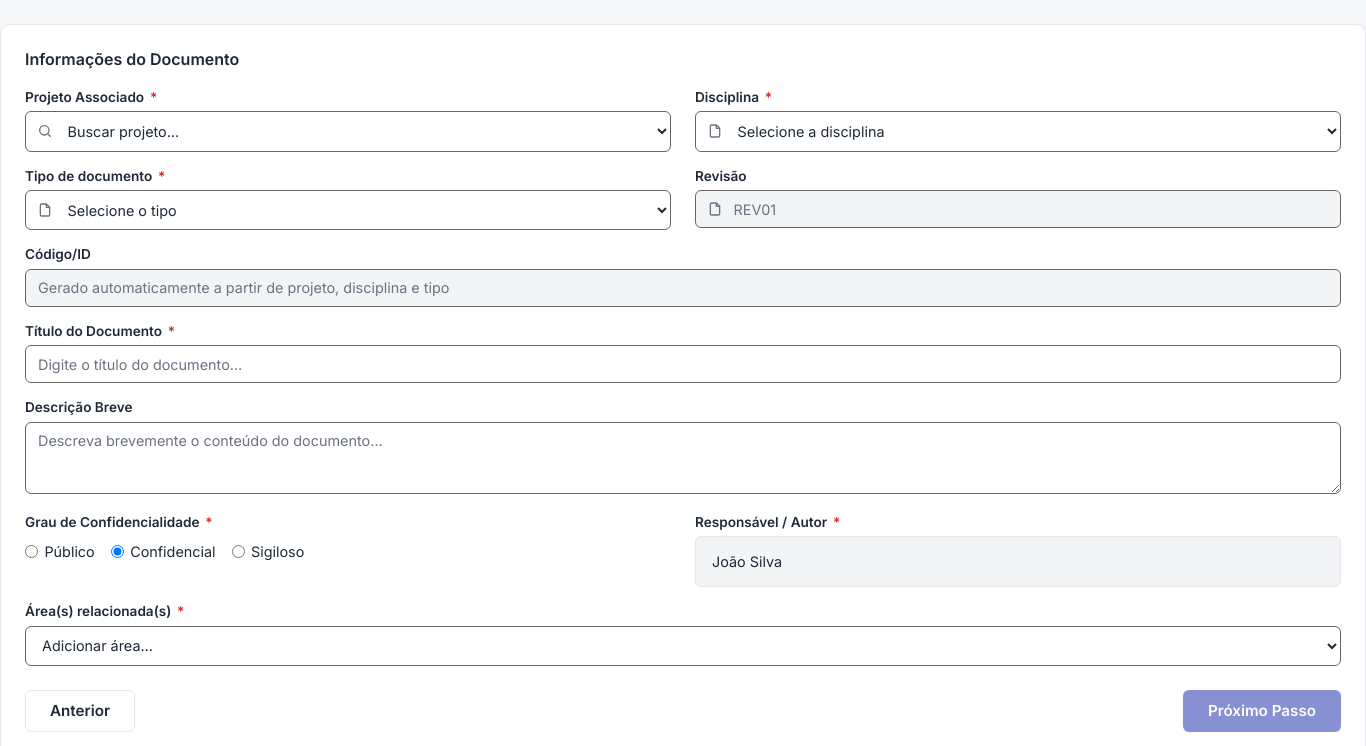
Test: MetadataStep › should show the author error under the author block when it is cleared
This screenshot has width=1366, height=746.
Clear the field with id "author" at (1018, 562), box [712, 547, 1324, 577]
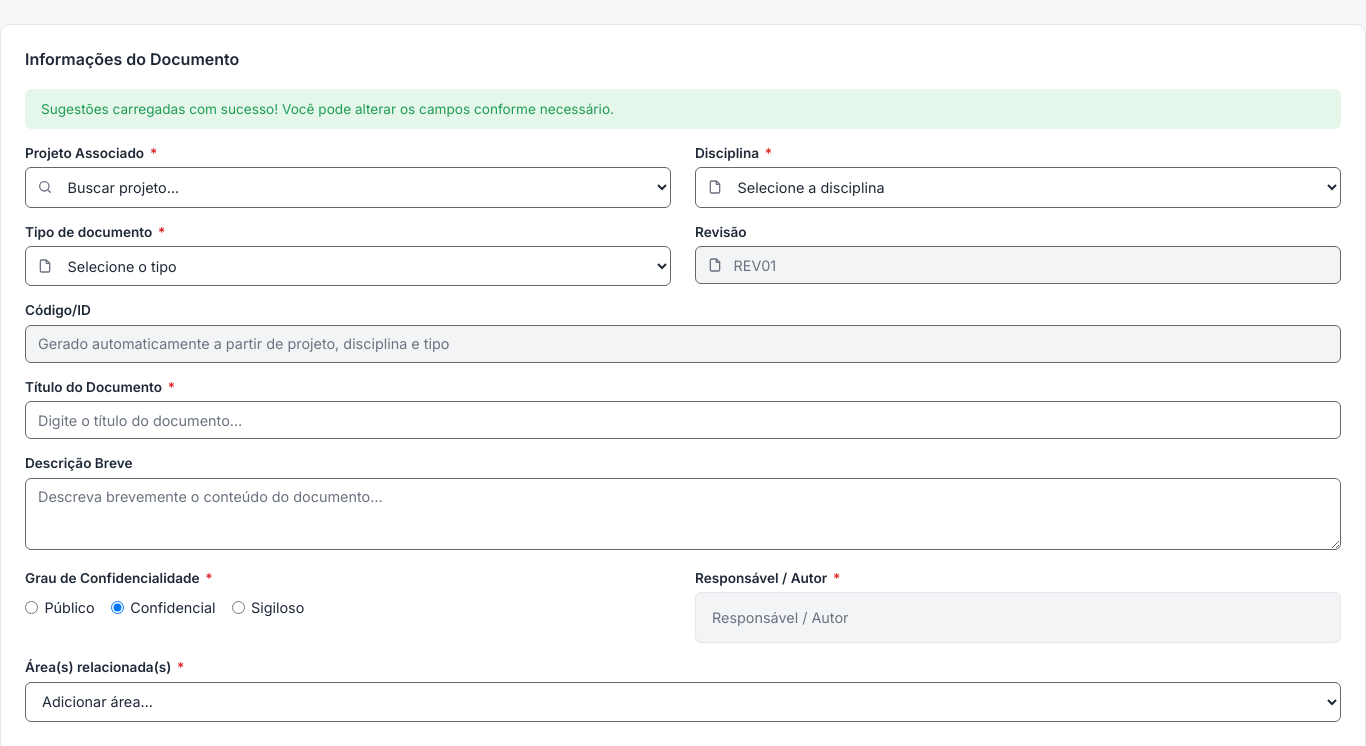
Leave the field with id "author", box [712, 603, 1324, 633]
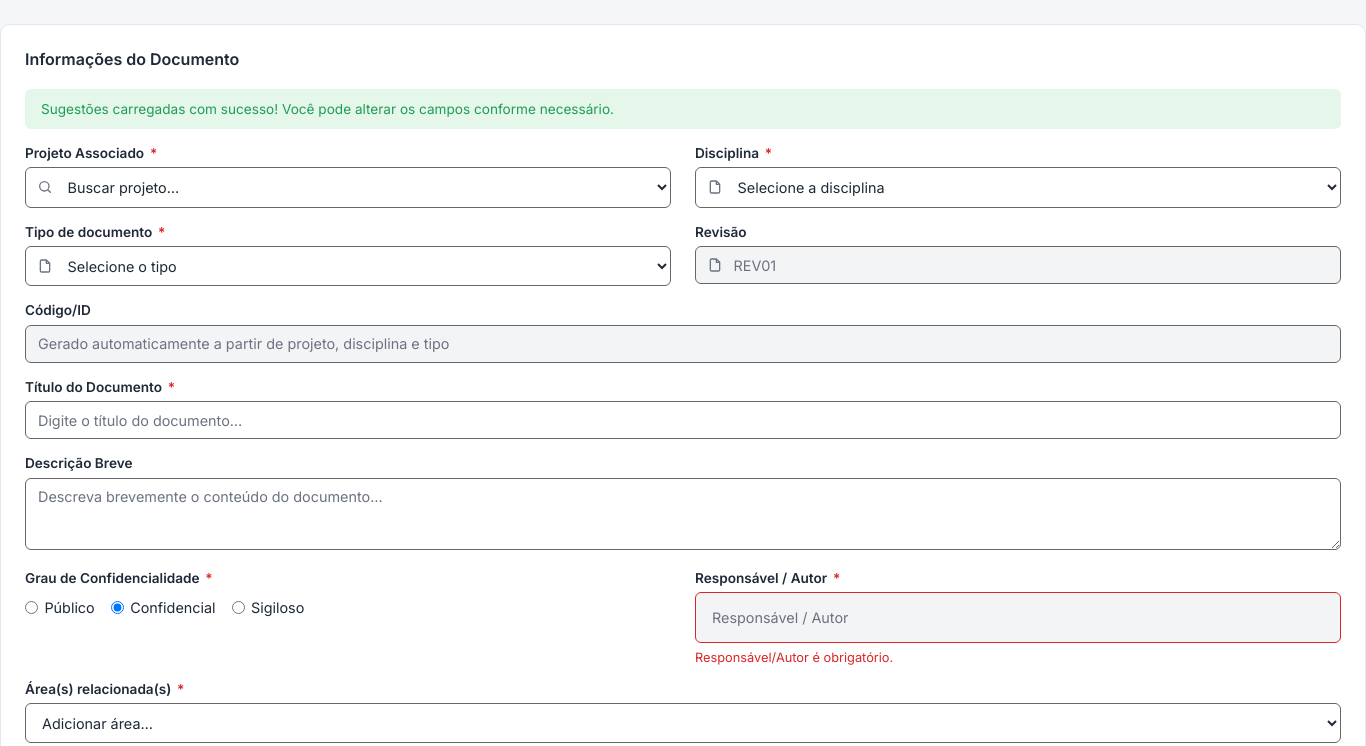
Check: the message with class "metadata__author-error" reads "Responsável/Autor é obrigatório.", box [695, 650, 893, 665]
